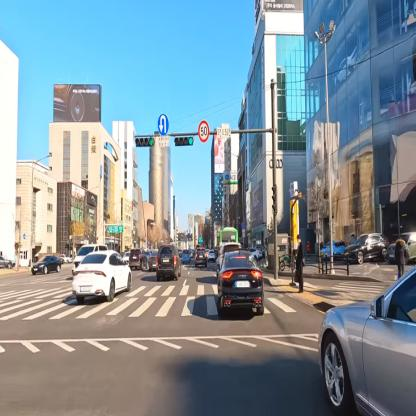Green: (132, 134, 158, 150), (173, 137, 196, 148)
